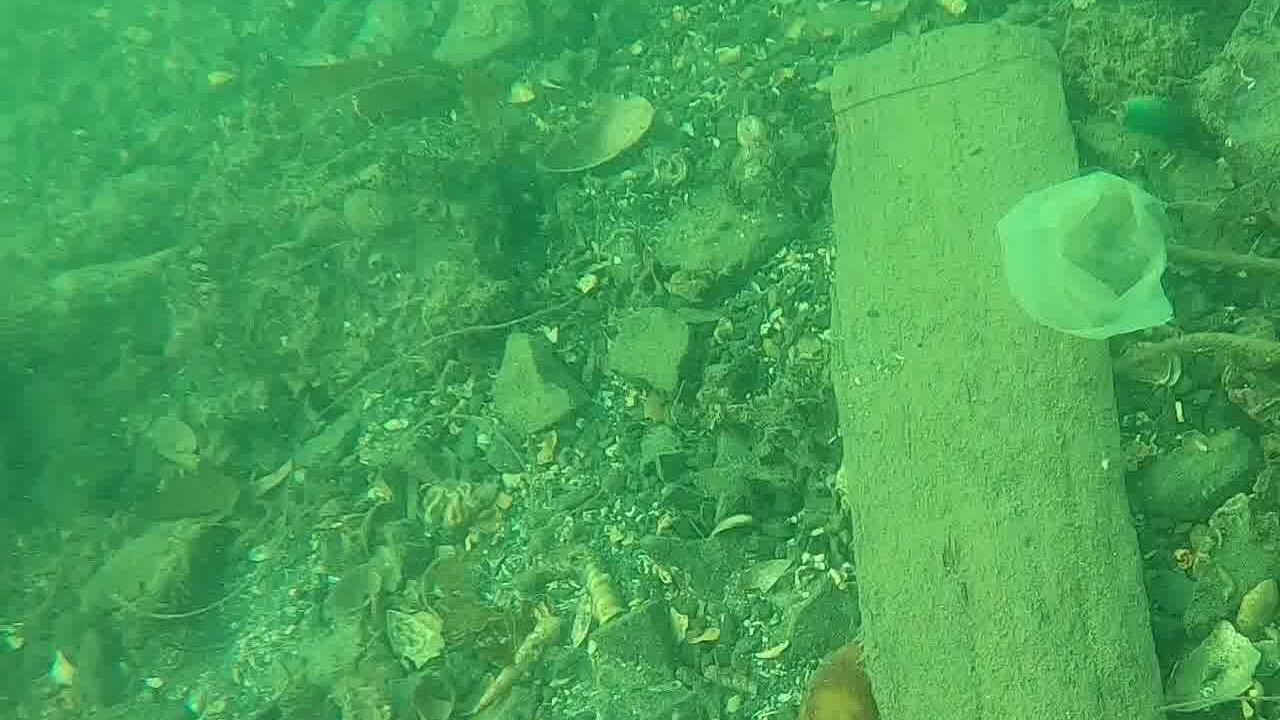wood: (823, 17, 1170, 719)
